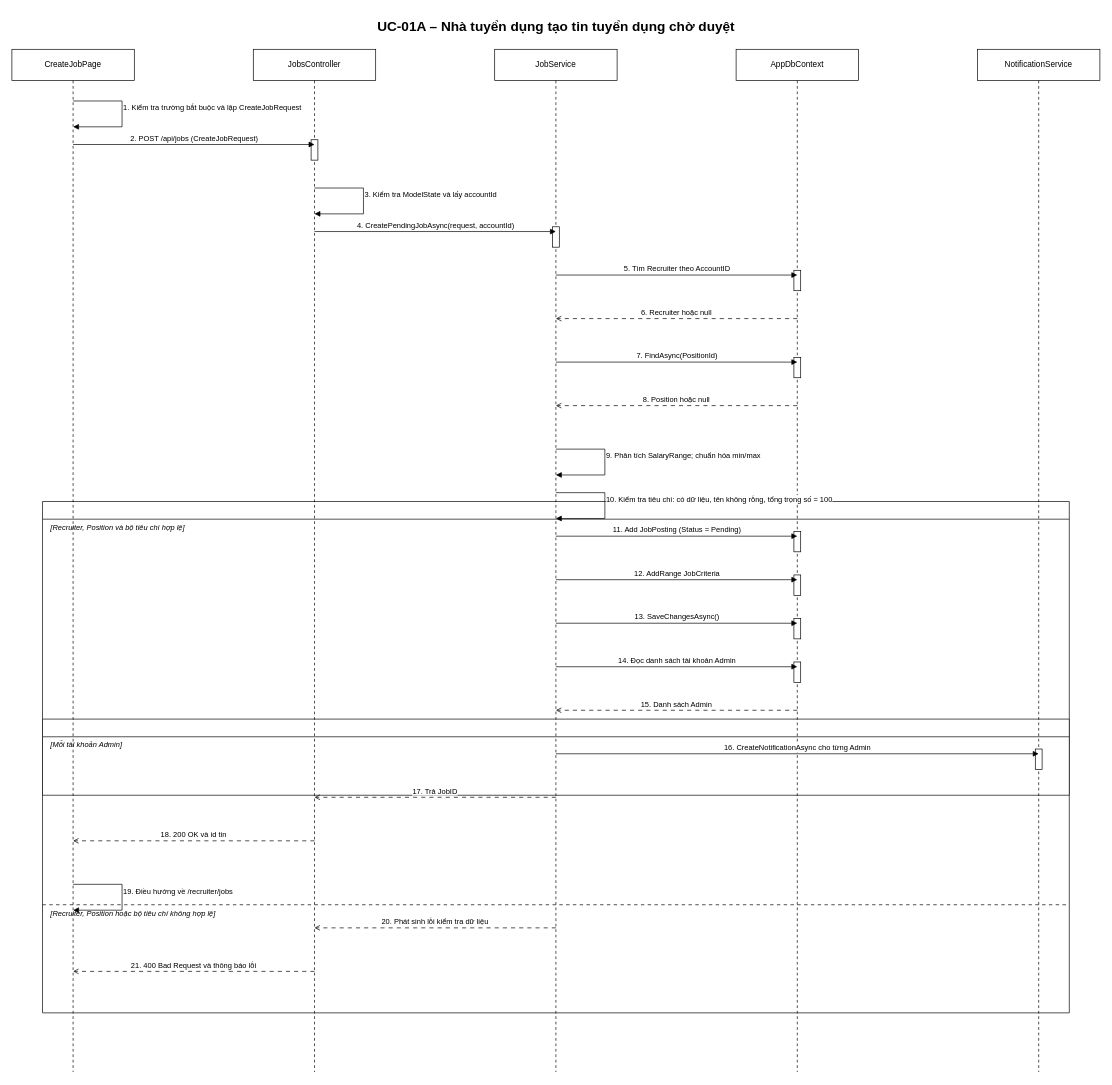
Some shapes in this 1112 by 1085 pixel diagram are drawn without their labels. The shapes that lost their labels are listed below. From the top down, each one's box as (x1, y1, x2, y2) in pixels, then its label:
(42, 718, 1069, 795): loop
(42, 501, 1069, 1013): alt
